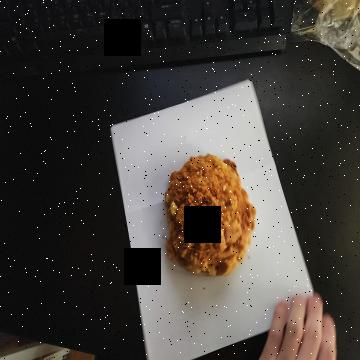soboru_bread: (160, 151, 256, 280)
